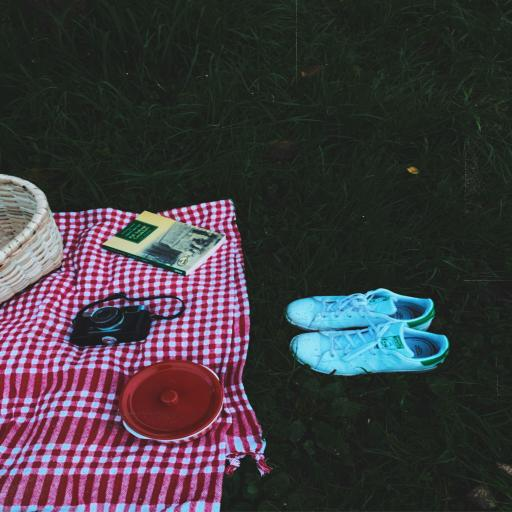shoe: (291, 321, 449, 375), (286, 289, 435, 331)
